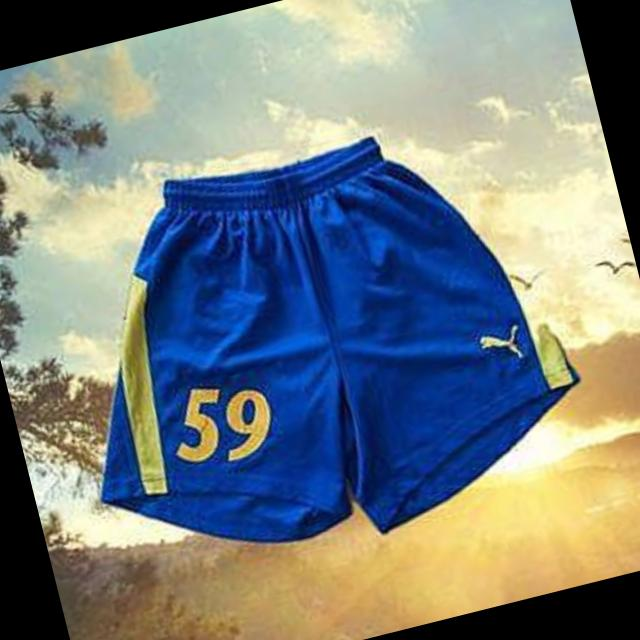SHORT: (16, 70, 640, 609)
